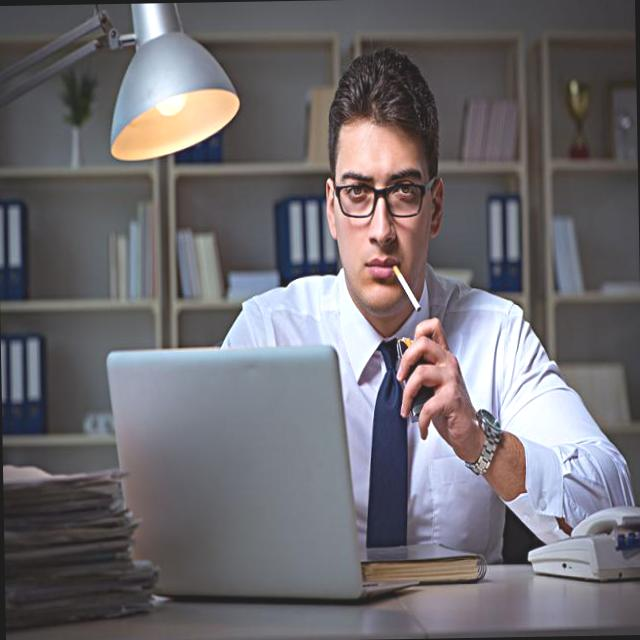smoke: (388, 247, 422, 318)
